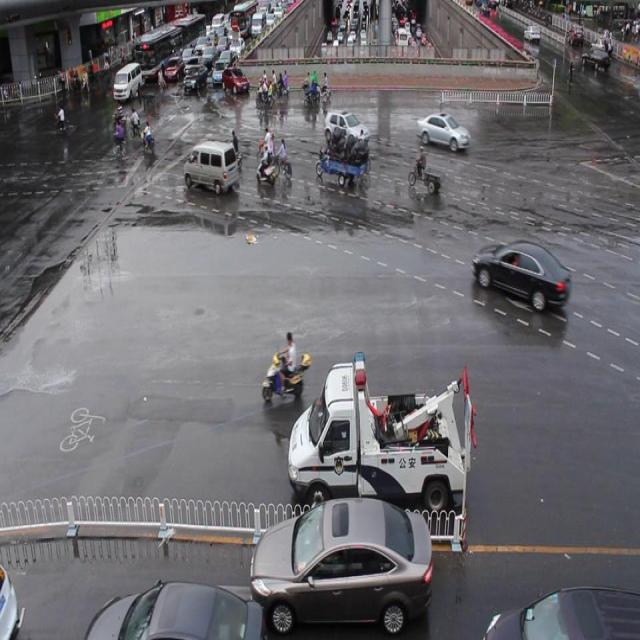bus: (287, 352, 473, 518)
car: (252, 495, 432, 640), (87, 579, 264, 640), (482, 585, 640, 640), (471, 240, 570, 311), (415, 111, 470, 153), (322, 108, 368, 148)
truck: (185, 140, 238, 194)
